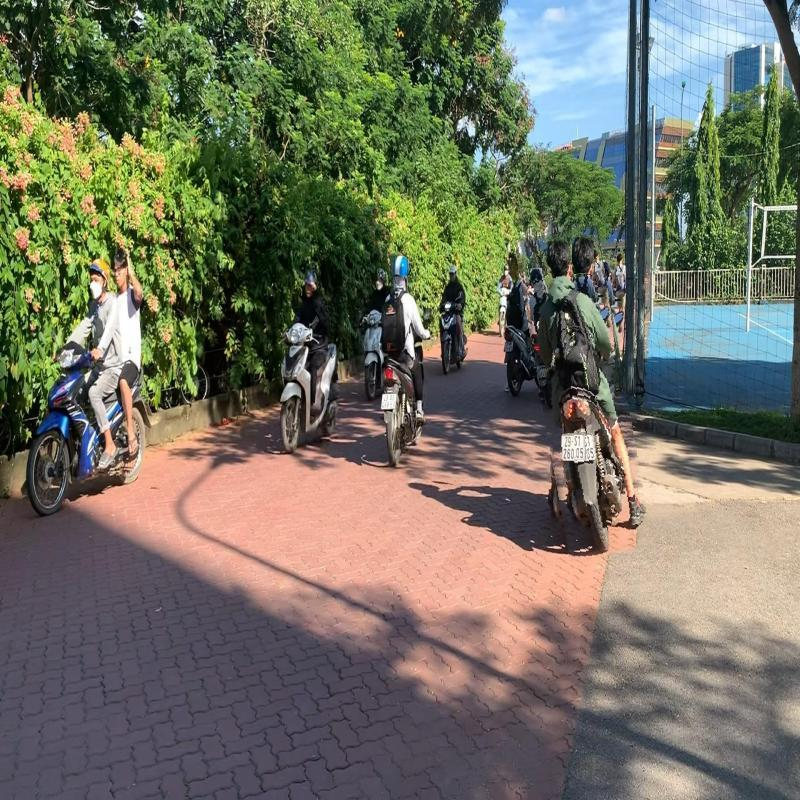licenseplate: (562, 432, 586, 461)
motorcyclist: (527, 228, 640, 559)
nohelmet: (572, 235, 594, 274)
